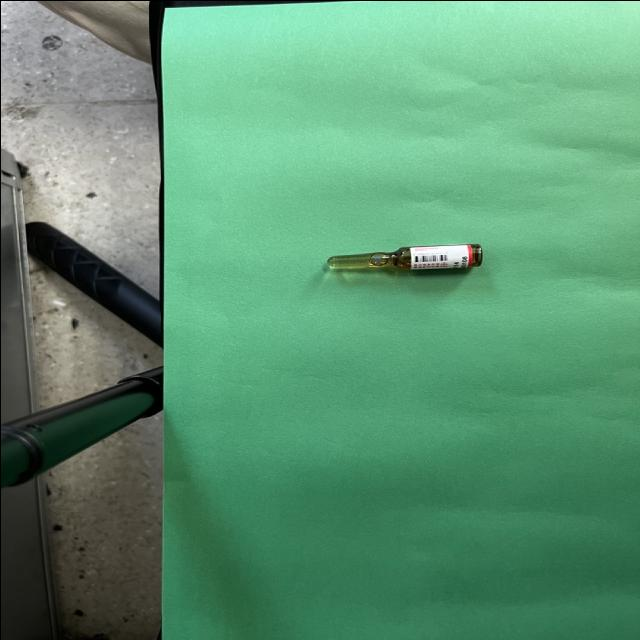Ampoules: (326, 243, 481, 270)
